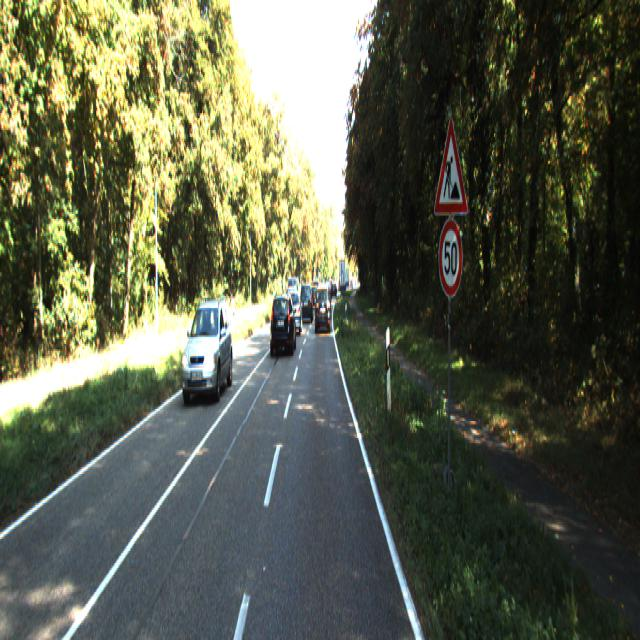Car: (182, 296, 234, 399), (270, 288, 297, 354), (286, 292, 303, 338), (315, 282, 331, 330), (300, 280, 313, 319)
